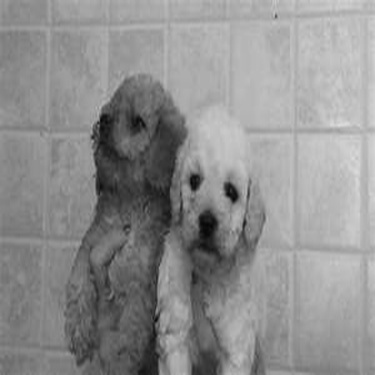dog: (37, 60, 190, 373), (143, 97, 269, 372)
